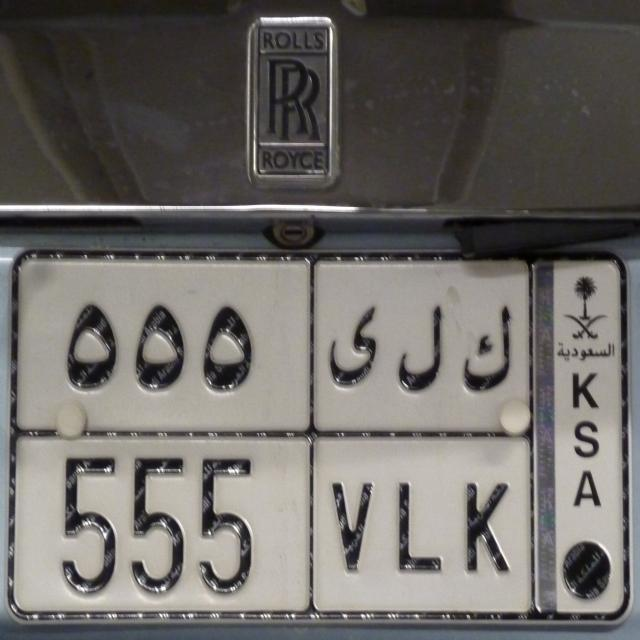license_plate: (9, 428, 540, 620)
